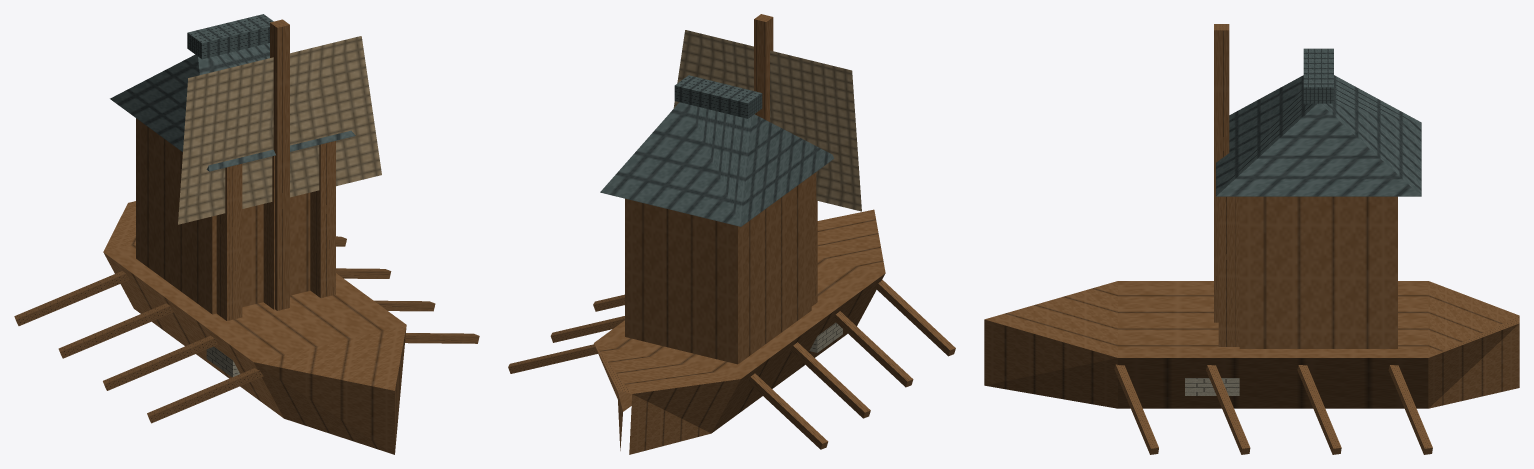
File: unit-WARSHIP-lod0.glb
3 renders of one model, left to right at view 1: azimuth 30°, elevation 25°; view 2: azimuth 150°, elevation 25°; view 3: azimuth 270°, elevation 25°, orthographic. The views are drawn at different scales.
Size of the model in its own units: 0.6486 by 0.65 by 0.88.
Materials: 1 (1 with a texture image).
